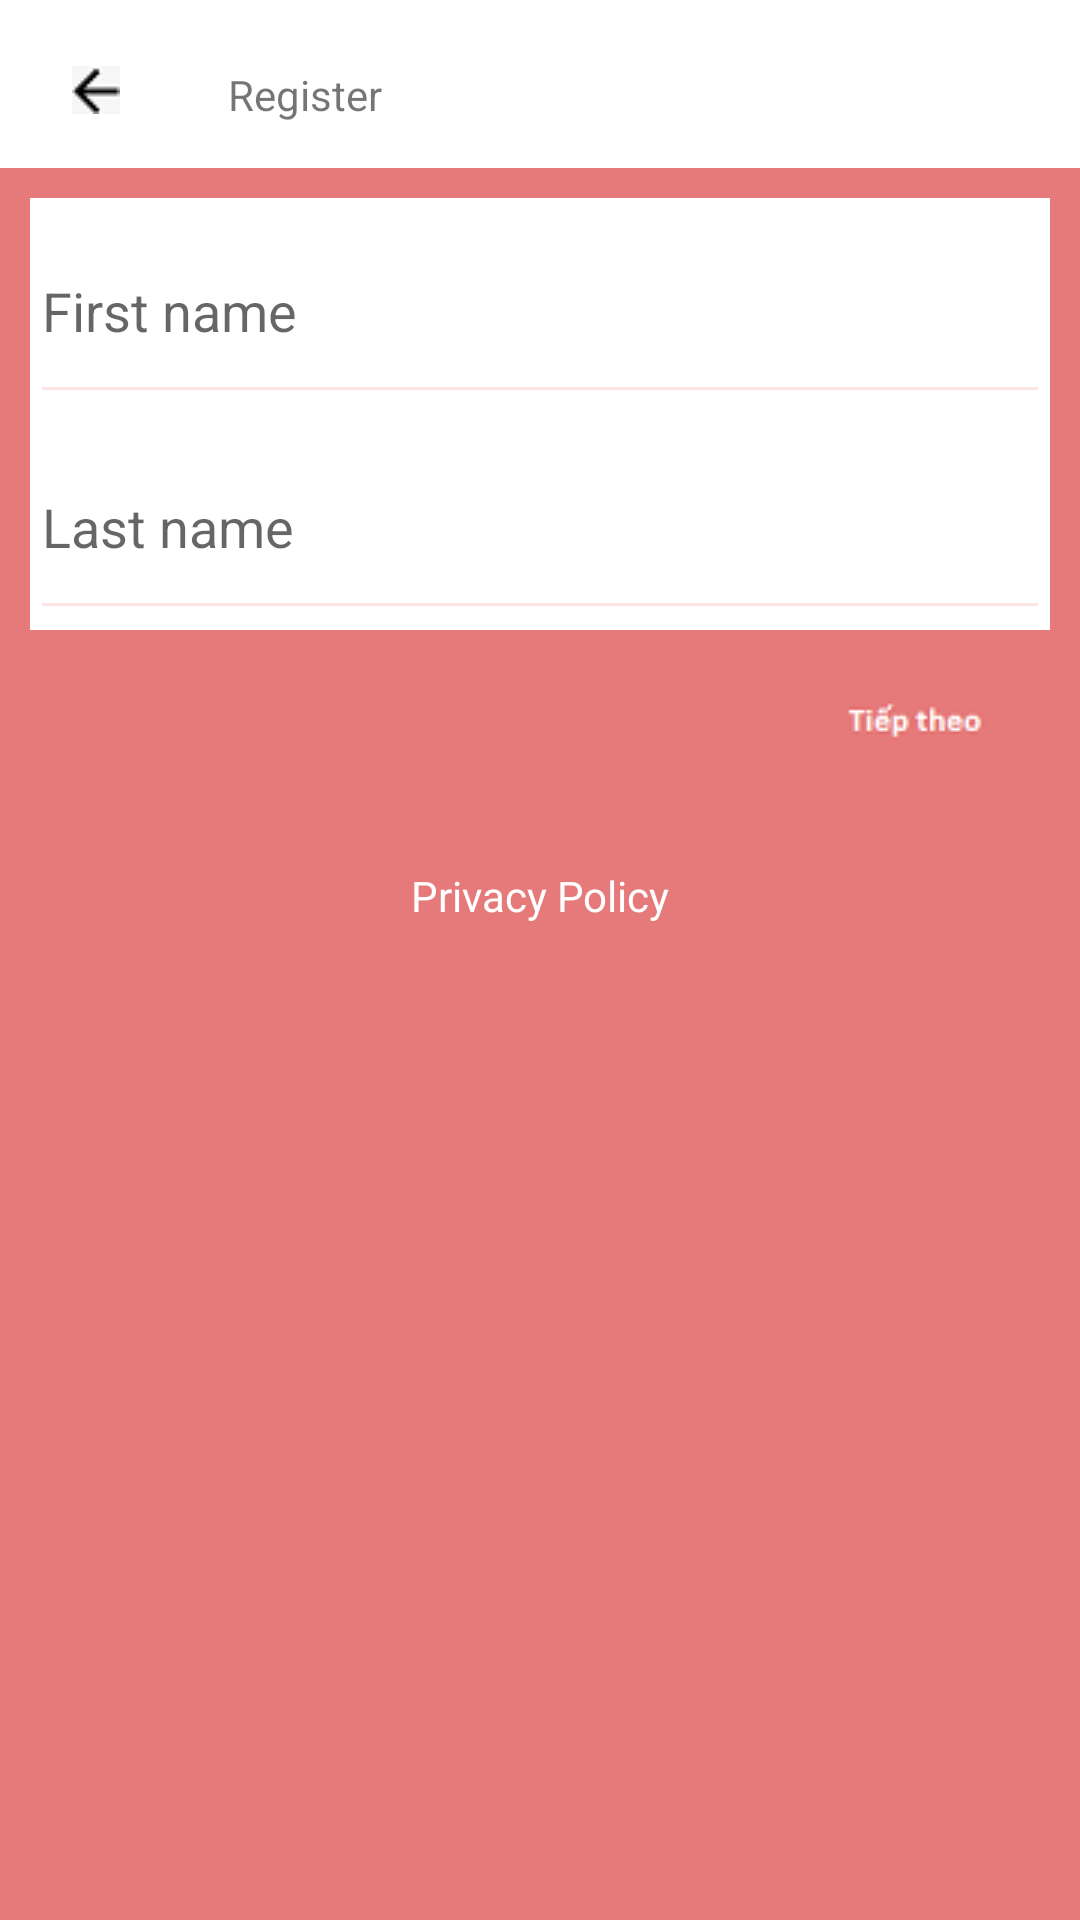

Icon bounding boxes for this 1080 × 1920 phone screenshot, format (x1, y1, x2, y2):
back arrow: (72, 66, 120, 114)
